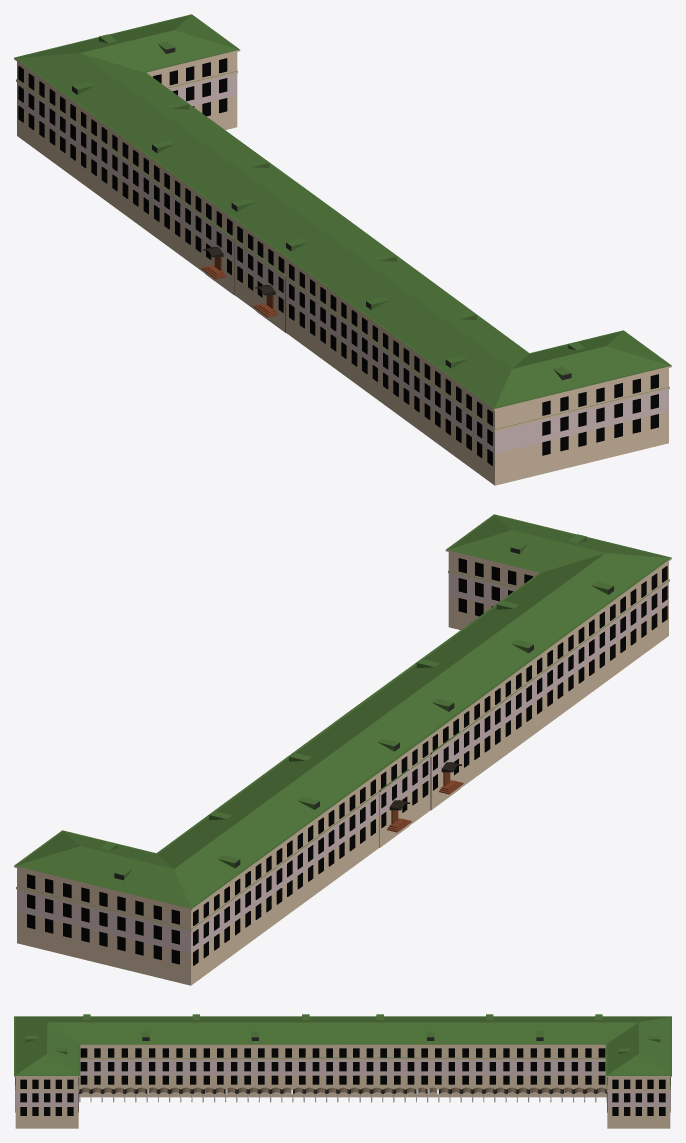
The model's file is Unker.gltf.
The picture shows the model from 3 angles, top to bottom: view 1: azimuth 30°, elevation 25°; view 2: azimuth 150°, elevation 25°; view 3: azimuth 270°, elevation 25°; orthographic projection. The views are drawn at different scales.
Visible parts, largest first — view 1: Base, Windows Drop 5, Windows drop 4.1, Add 2, Windows drop 3, Roof add.003, Door; view 2: Base, Windows Drop 5, Windows drop 4, Add 2, Windows drop 3, Roof add.003, Door; view 3: Base, Windows drop 2, Shed, Add 1, Windows drop 1, Roof add.004, Roof add.003.
Boxes of the visible parts, x1=… form: Base: x1=14, y1=14, x2=671, y2=485; Windows Drop 5: x1=18, y1=66, x2=492, y2=465; Windows drop 4.1: x1=542, y1=374, x2=658, y2=455; Add 2: x1=203, y1=216, x2=286, y2=332; Windows drop 3: x1=153, y1=58, x2=227, y2=116; Roof add.003: x1=72, y1=81, x2=468, y2=368; Door: x1=201, y1=246, x2=278, y2=317; Base: x1=14, y1=514, x2=671, y2=985; Windows Drop 5: x1=193, y1=566, x2=667, y2=965; Windows drop 4: x1=27, y1=874, x2=179, y2=964; Add 2: x1=379, y1=731, x2=461, y2=847; Windows drop 3: x1=458, y1=558, x2=532, y2=616; Roof add.003: x1=217, y1=581, x2=613, y2=868; Door: x1=387, y1=762, x2=463, y2=832; Base: x1=14, y1=1016, x2=671, y2=1128; Windows drop 2: x1=80, y1=1048, x2=605, y2=1084; Shed: x1=79, y1=1087, x2=606, y2=1102; Add 1: x1=309, y1=1057, x2=418, y2=1097; Windows drop 1: x1=20, y1=1079, x2=665, y2=1115; Roof add.004: x1=142, y1=1031, x2=543, y2=1040; Roof add.003: x1=83, y1=1014, x2=602, y2=1019.
Size of the model in its own units: 39.98 by 18.29 by 177.
